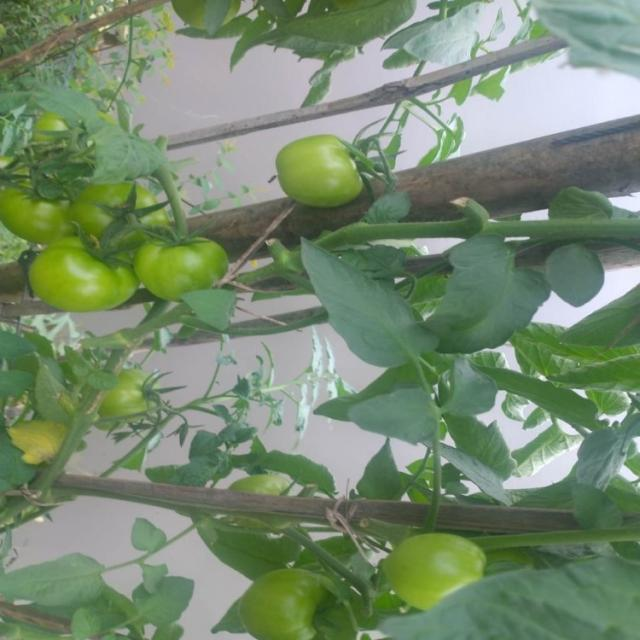tomato: (16, 239, 151, 334), (227, 559, 365, 640), (131, 229, 254, 318), (71, 172, 181, 268), (375, 514, 483, 610), (271, 128, 378, 217), (1, 150, 88, 246), (9, 411, 90, 479), (93, 371, 171, 428), (25, 109, 94, 151)
